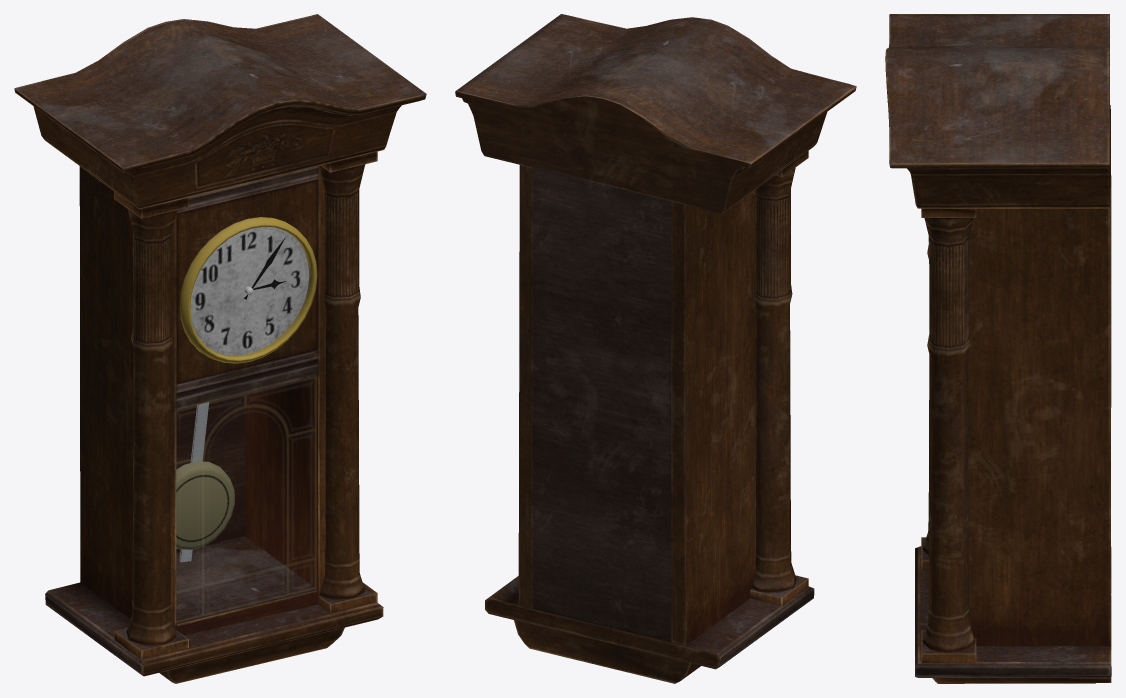
Rendered from old_wall_clock.glb.
3 views of the same model, side by side, from view 1: azimuth 30°, elevation 25°; view 2: azimuth 150°, elevation 25°; view 3: azimuth 270°, elevation 25° (orthographic). The views are drawn at different scales.
Visible parts, largest first — view 1: wall_clock, wall_clock_pendulum, wall_clock_glass; view 2: wall_clock; view 3: wall_clock.
Part boxes in pixels (<box>): wall_clock: <box>14,14,426,683</box>; wall_clock_pendulum: <box>176,402,234,562</box>; wall_clock_glass: <box>176,376,316,622</box>; wall_clock: <box>455,14,856,683</box>; wall_clock: <box>885,14,1111,683</box>.
Size of the model in its own units: 0.2988 by 0.5519 by 0.1911.
2 materials, 2 textured.
